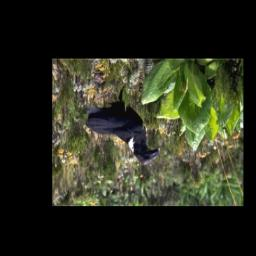Crow: (85, 86, 160, 166)
